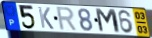5: (17, 5, 38, 31)
6: (117, 9, 135, 35)
8: (77, 8, 94, 33)
K: (37, 6, 56, 31)
M: (94, 8, 122, 35)
R: (56, 6, 79, 33)
